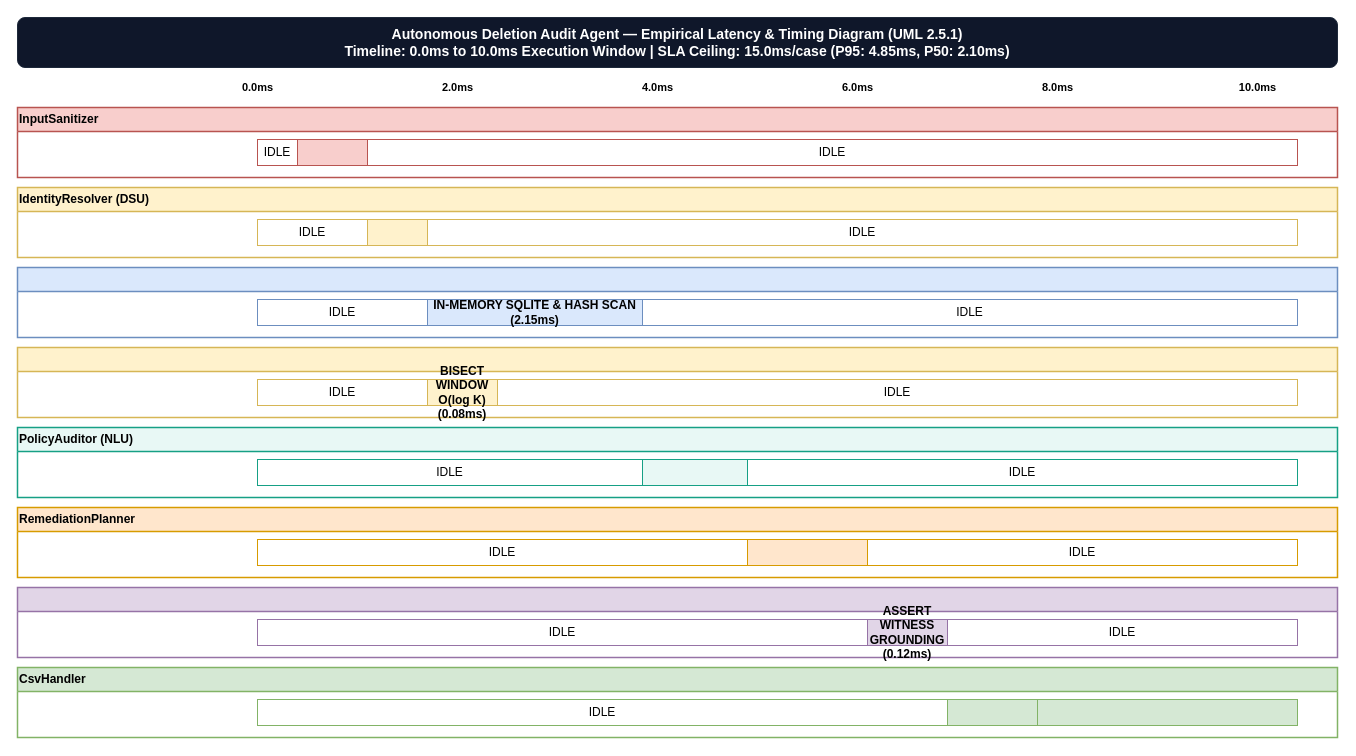
Some shapes in this 1356 by 756 pixel diagram are drawn without their labels. Each missing label, with the box of its shape:
BUFFERED WRITE (0.18ms): (946, 698, 1038, 726)
EVALUATE RETENTION & TOMBSTONES (0.35ms): (642, 458, 748, 486)
LineageTracer (Bisect): (16, 346, 1338, 418)
MultimodalInspector: (16, 266, 1338, 338)
ORBIT CACHE O(α(N)) (0.05ms): (366, 218, 428, 246)
POSET DAG INJECTIVE 5-TUPLE SORT (0.42ms): (746, 538, 868, 566)
PromptGuard: (16, 586, 1338, 658)
ROW COMPLETED (Total: 3.59ms): (1036, 698, 1298, 726)
SANITIZE & SHANNON ENTROPY (0.24ms): (296, 138, 368, 166)
